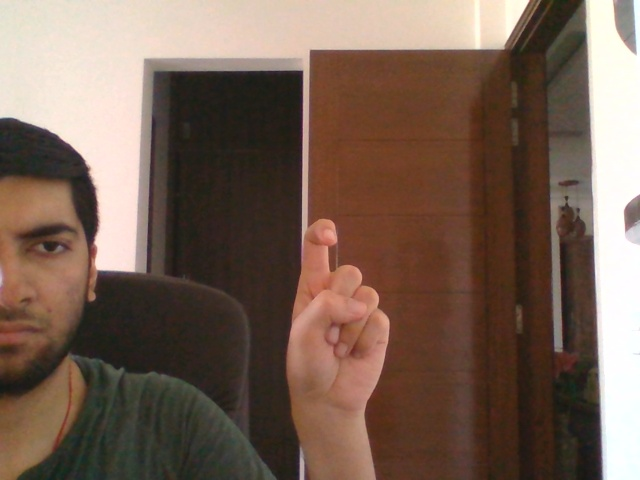LetterX: (281, 217, 391, 421)
